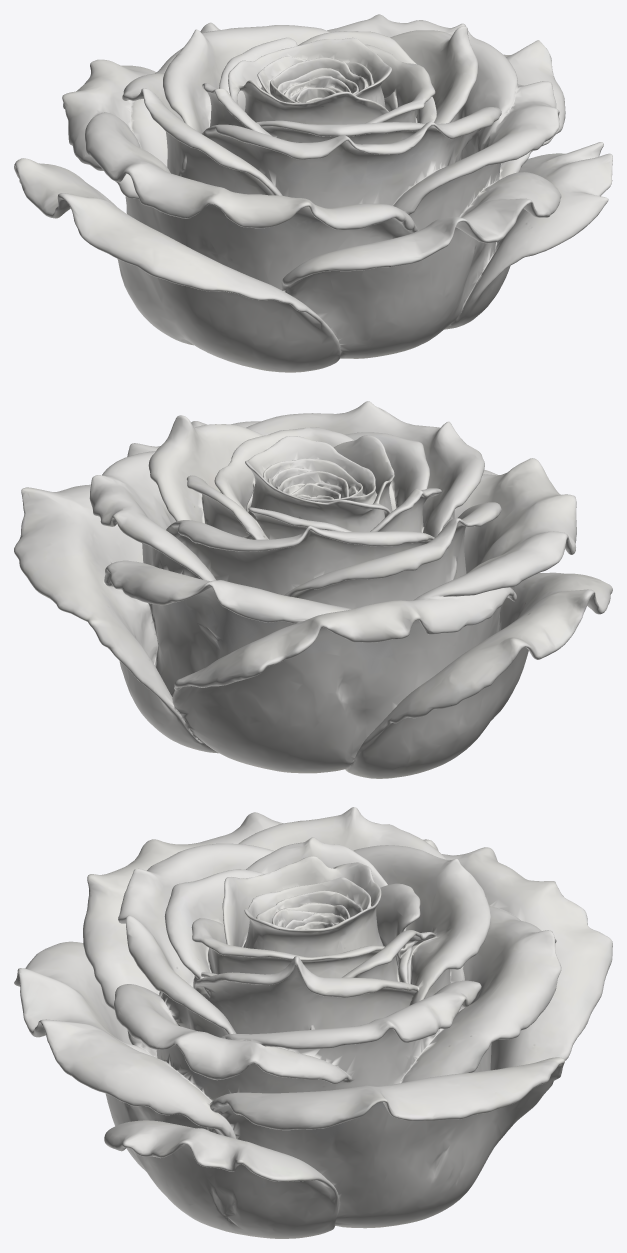
Rendered from White Rose no stem.glb.
The picture shows the model from 3 angles, top to bottom: view 1: azimuth 30°, elevation 25°; view 2: azimuth 150°, elevation 25°; view 3: azimuth 270°, elevation 25°; orthographic projection. The views are drawn at different scales.
Visible parts, largest first — view 1: tripo_node_45203519-b29e-49d9-b35d-ccf1e8e6175f; view 2: tripo_node_45203519-b29e-49d9-b35d-ccf1e8e6175f; view 3: tripo_node_45203519-b29e-49d9-b35d-ccf1e8e6175f.
Part boxes in pixels (x1=…): tripo_node_45203519-b29e-49d9-b35d-ccf1e8e6175f: x1=14, y1=14, x2=612, y2=372; tripo_node_45203519-b29e-49d9-b35d-ccf1e8e6175f: x1=14, y1=401, x2=612, y2=778; tripo_node_45203519-b29e-49d9-b35d-ccf1e8e6175f: x1=14, y1=807, x2=612, y2=1238.
Bounding box in the file's own units: 0.9997 × 0.4815 × 0.8918.
Materials: 1 (1 with a texture image).
